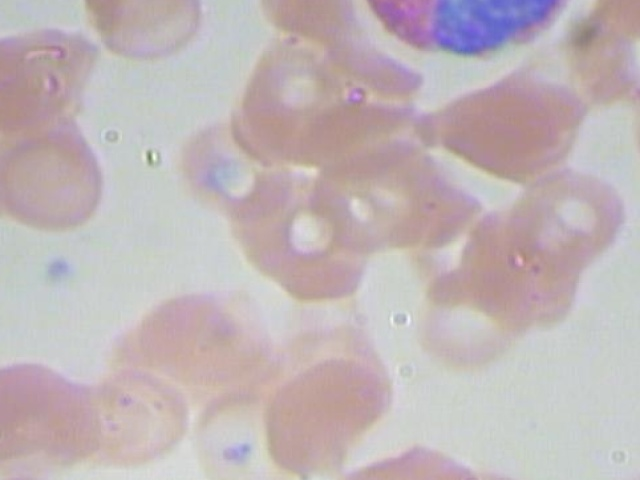Platelets: (28, 250, 83, 293), (208, 431, 263, 474)
RBC: (413, 47, 598, 184), (226, 172, 396, 307), (102, 263, 273, 397), (224, 29, 376, 165), (397, 251, 546, 388), (255, 345, 401, 480), (0, 117, 132, 247), (64, 358, 210, 474), (494, 165, 640, 281), (0, 8, 116, 138), (170, 113, 301, 224), (0, 353, 95, 469), (70, 0, 217, 71), (0, 19, 36, 150)
WBC: (348, 0, 585, 58)
